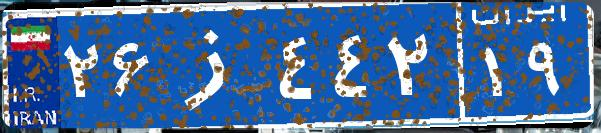1: (475, 38, 525, 113)
2: (385, 28, 445, 110), (57, 26, 110, 107)
4: (273, 28, 330, 110), (330, 28, 385, 110)
6: (110, 28, 158, 105)
9: (525, 38, 570, 115)
ز: (158, 15, 273, 115)
